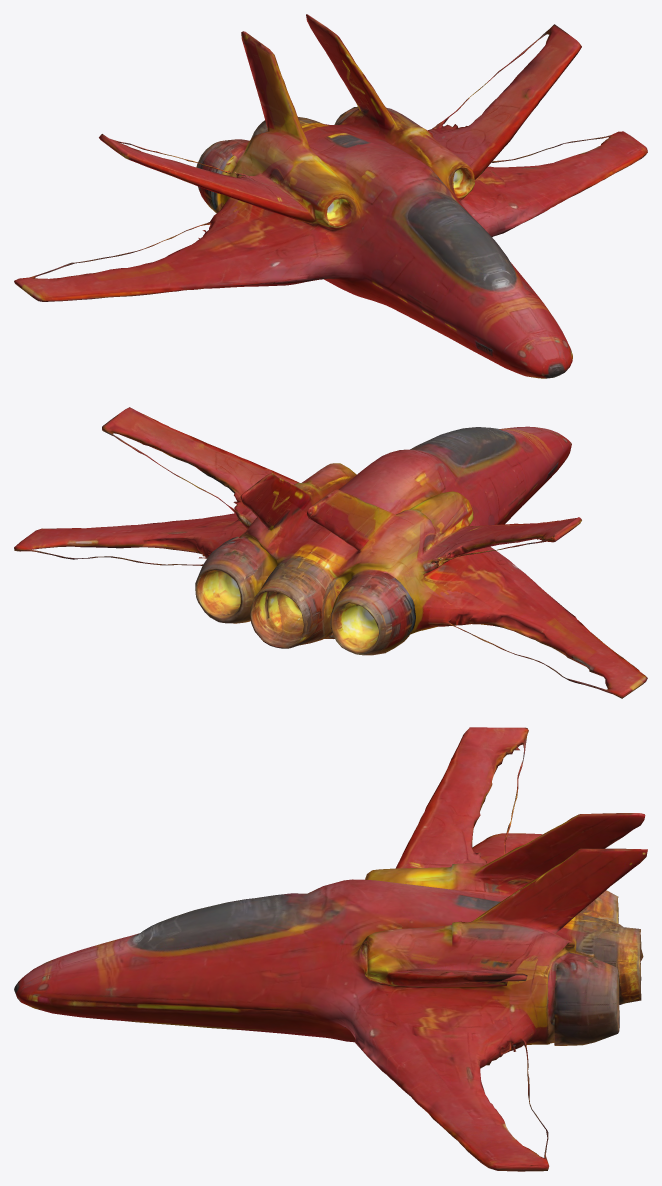
File: Spaceship_fire_red.glb
The picture shows the model from 3 angles, top to bottom: view 1: azimuth 30°, elevation 25°; view 2: azimuth 150°, elevation 25°; view 3: azimuth 270°, elevation 25°; orthographic projection. The views are drawn at different scales.
Size of the model in its own units: 2 by 0.553 by 1.61.
1 material, 1 textured.
